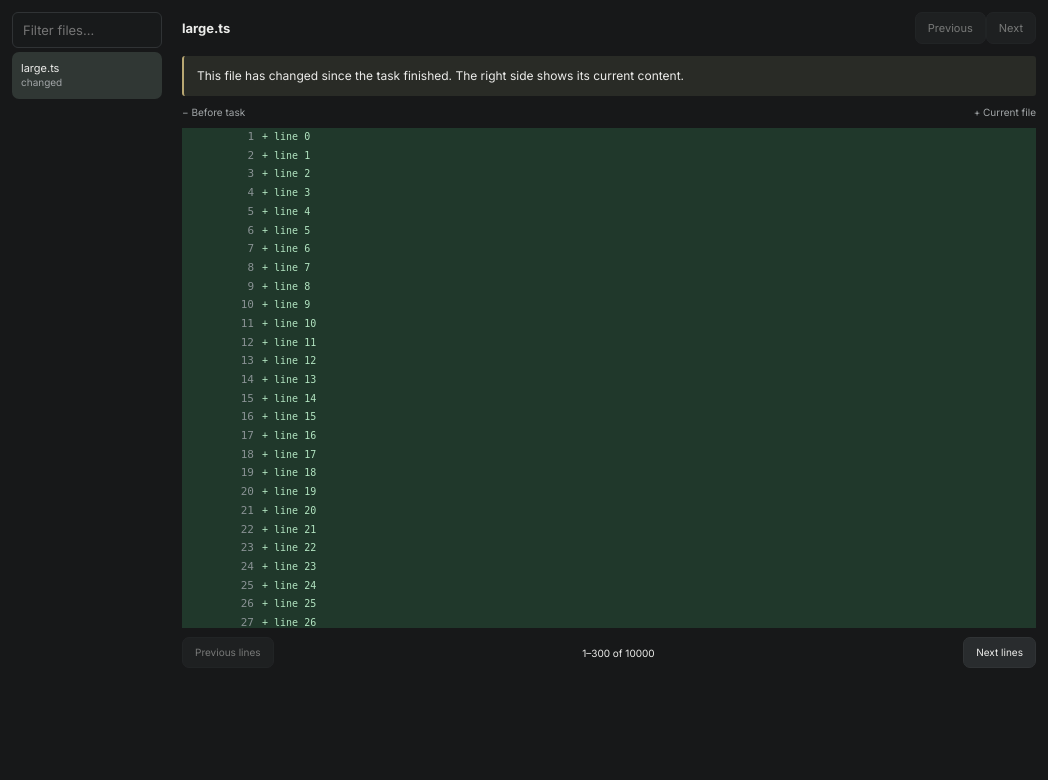
it: truthful projection and bounded views › pages large diffs instead of mounting every line
Expected: the text "This file has changed since" is shown, [197,68,684,83]
Step 1. Click the button "Next lines" → (1000, 653), box [963,637,1036,668]
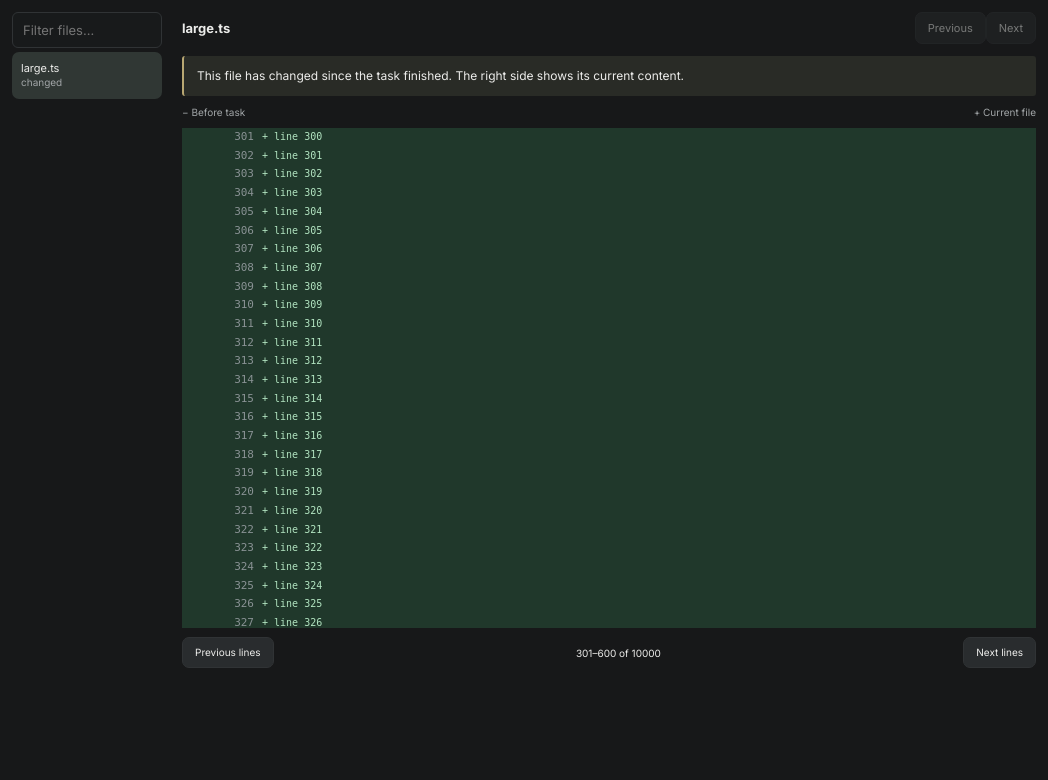
Now the text "301–600 of 10000" is shown, box [576,647,661,659]
